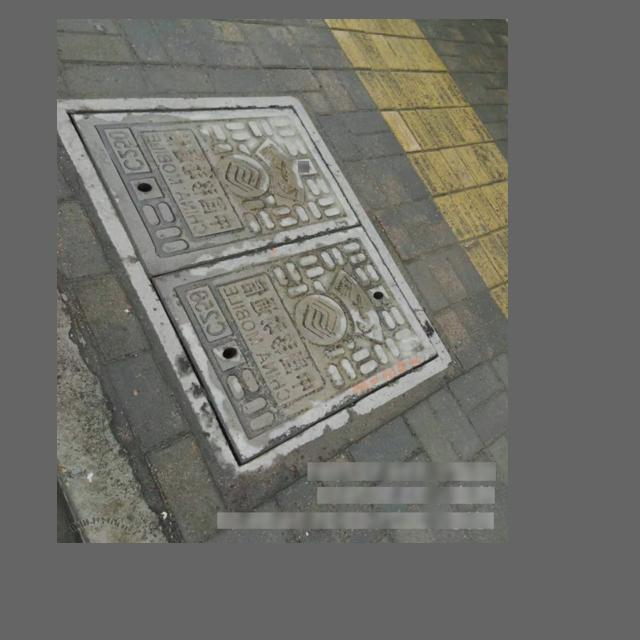good: (56, 95, 450, 475)
